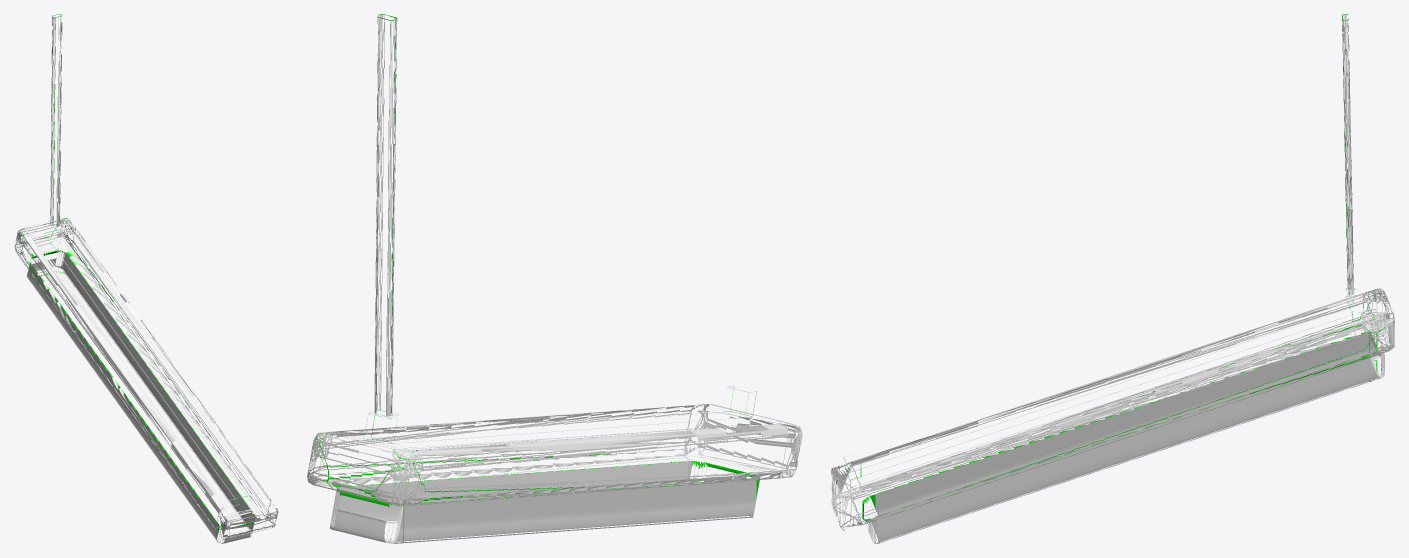
File: Broken Light.FBX
3 views of the same model, side by side, from view 1: azimuth 30°, elevation 25°; view 2: azimuth 150°, elevation 25°; view 3: azimuth 270°, elevation 25° (orthographic). The views are drawn at different scales.
Visible parts, largest first — view 1: Box001; view 2: Box001; view 3: Box001.
Part boxes in pixels (box(x1,y1,x2,y2)): Box001: box(14, 14, 278, 543); Box001: box(307, 14, 802, 543); Box001: box(831, 14, 1394, 543).
Bounding box in the file's own units: 7.87 × 57.19 × 56.41.
